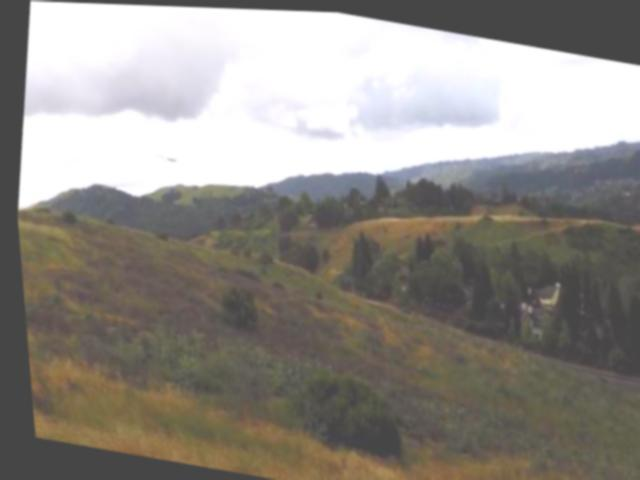iha: (142, 143, 187, 172)
